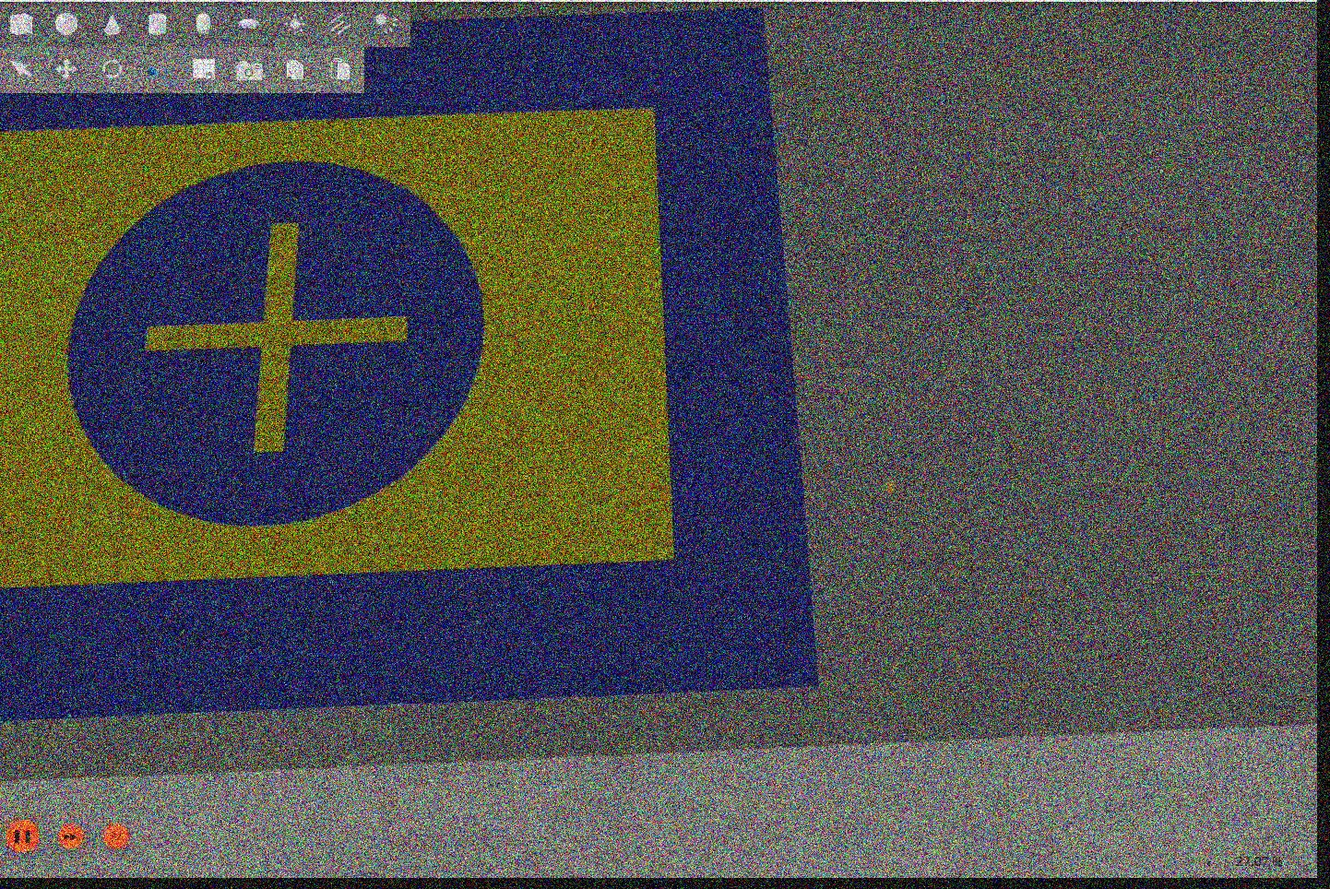large_base: (1, 3, 818, 721)
